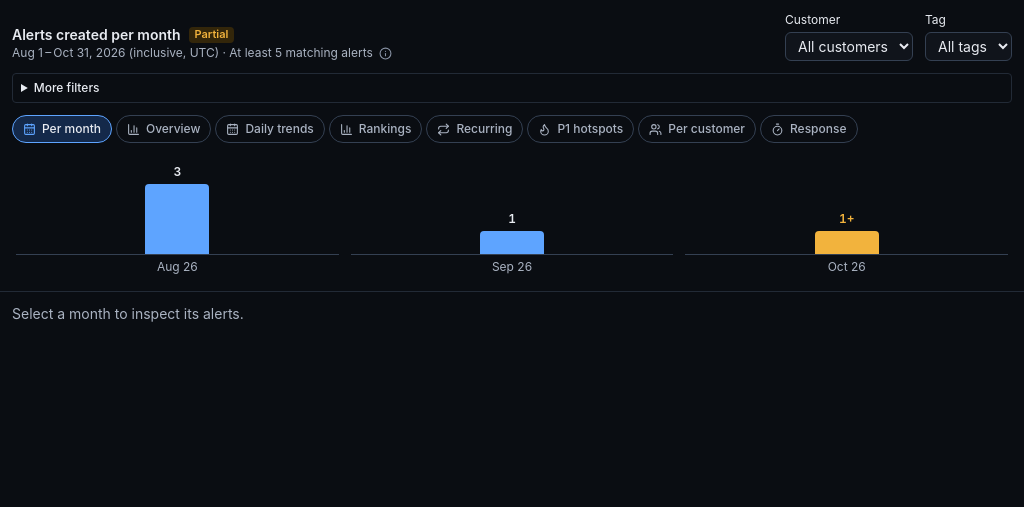
Test: HistoryAnalysis: the results › shows alerts per month and the alerts of a picked month
Expected: the heading "Alerts created per month Partial" is shown, [12,26,234,43]
Expected: the text "Partial" is shown, [188,27,234,43]
What coordinates should you click on to do the following:
click the button with aria-label "August 2026, 3 alerts"
I would click on:
 (177, 217)
Its box is [12,155,343,279].
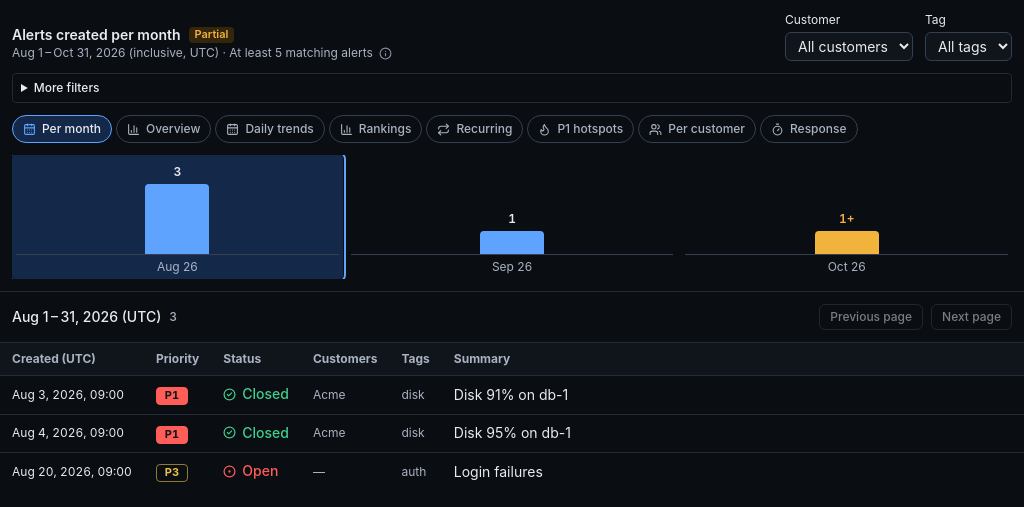
Now the heading "Aug 1 – 31, 2026 (UTC) 3" is shown, box [12,307,177,327]
Now the text "Login failures" is shown, box [442,452,1023,490]
Now the button "Previous page" is disabled, box [819,304,923,330]
